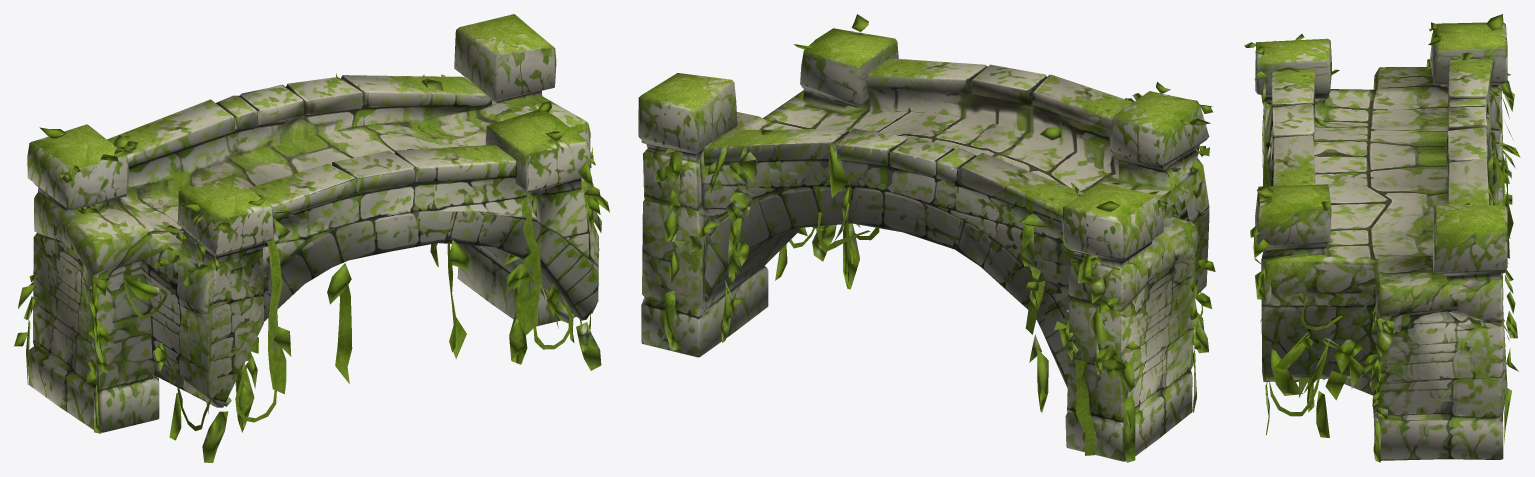
The model's file is StoneBridge.fbx.
The picture shows the model from 3 angles, left to right: view 1: azimuth 30°, elevation 25°; view 2: azimuth 150°, elevation 25°; view 3: azimuth 270°, elevation 25°; orthographic projection. The views are drawn at different scales.
Visible parts, largest first — view 1: StoneBridge; view 2: StoneBridge; view 3: StoneBridge.
Boxes of the visible parts, <box> form: StoneBridge: <box>14,14,609,462</box>; StoneBridge: <box>638,14,1215,462</box>; StoneBridge: <box>1244,14,1520,462</box>.
Bounding box in the file's own units: 4.8 × 2.29 × 2.42.
Materials: 1 (1 with a texture image).
